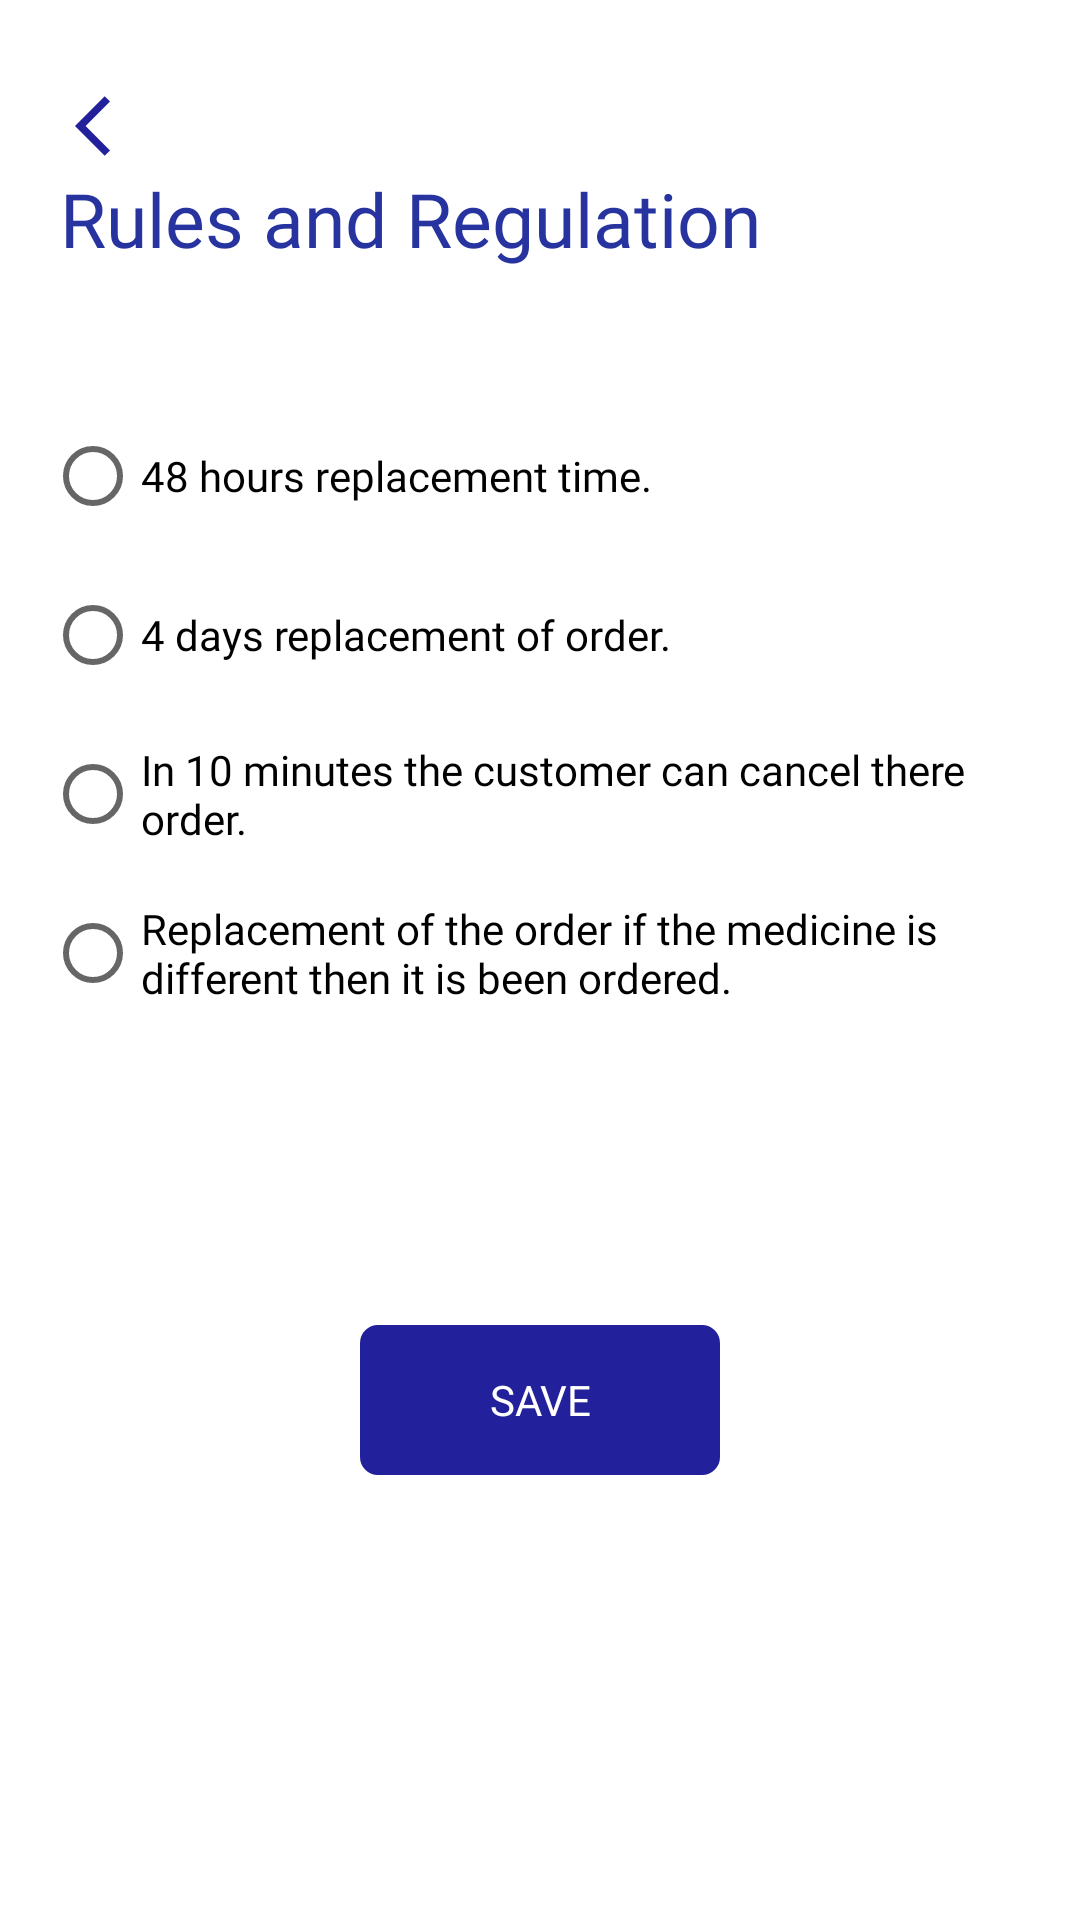

Icon bounding boxes for this 1080 × 1920 phone screenshot, format region(x1, y1, x2, y2):
arrow back: region(75, 96, 110, 156)
